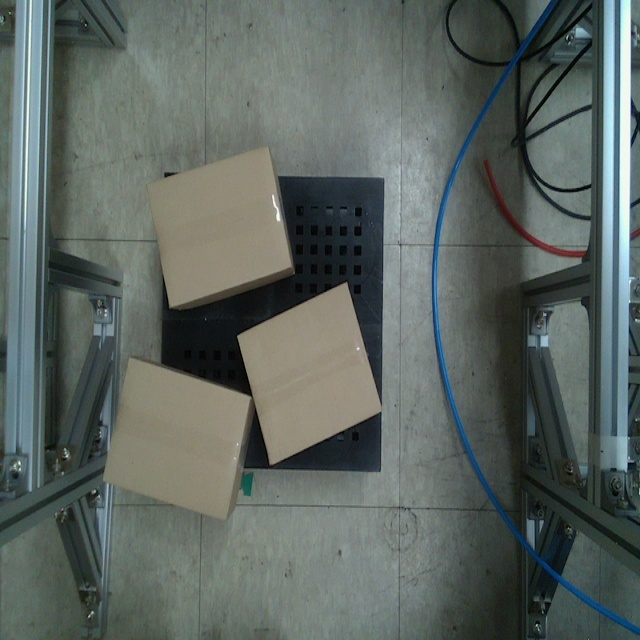box: (235, 281, 385, 465), (101, 354, 252, 522), (144, 144, 293, 309)
